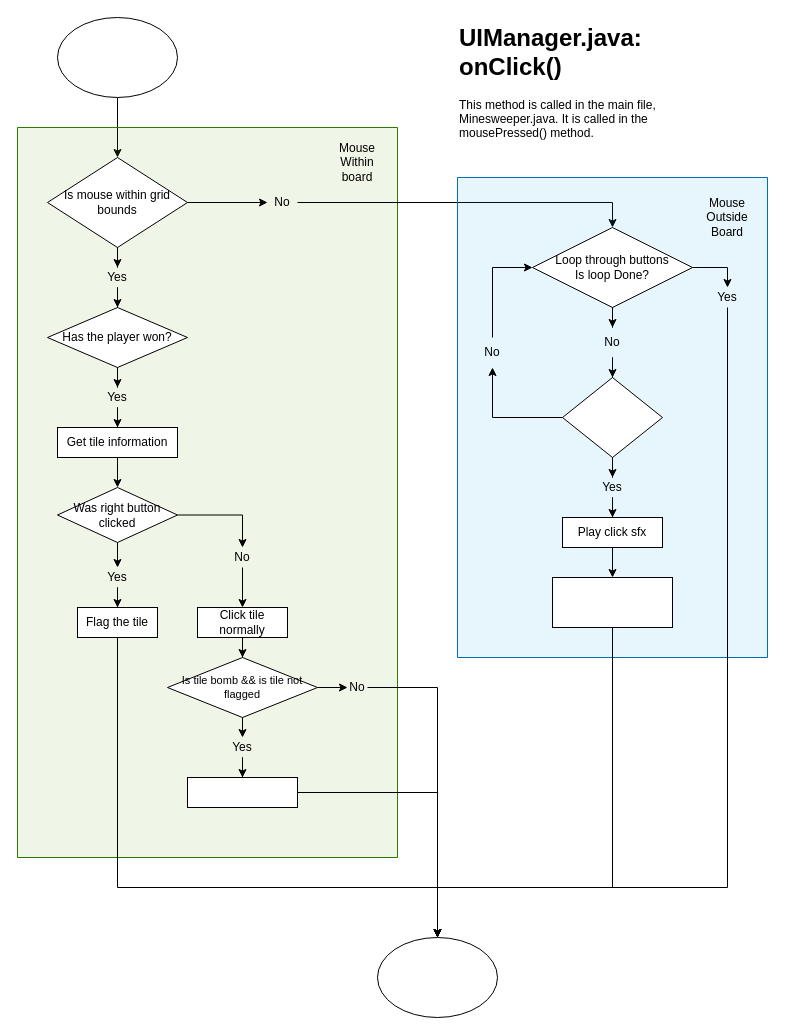
Image size: 785x1035. Some labels were removed from this diagram. Here are the shapes that lost their labels. From the top down, the centre of each, then its label:
(x=117, y=57): Start
(x=612, y=417): Is mouse within button bounds
(x=612, y=602): Call the button's "onClick()"
(x=242, y=792): Set game over to true
(x=437, y=977): End
